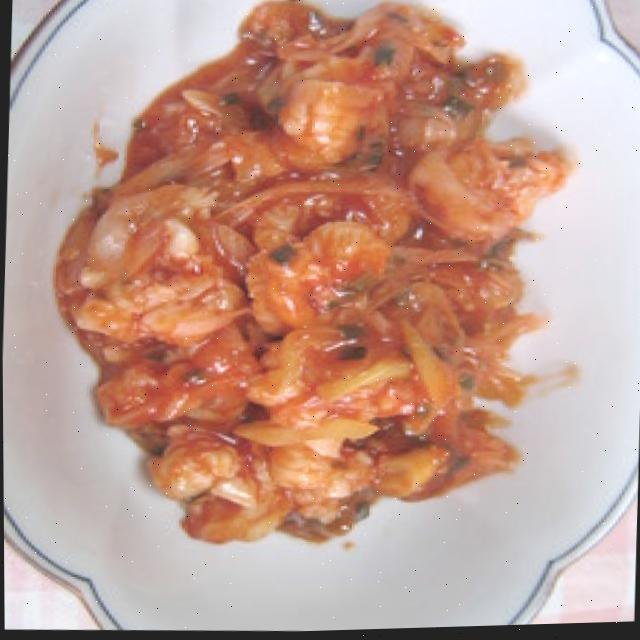熟制海鲜: (28, 0, 594, 572)
